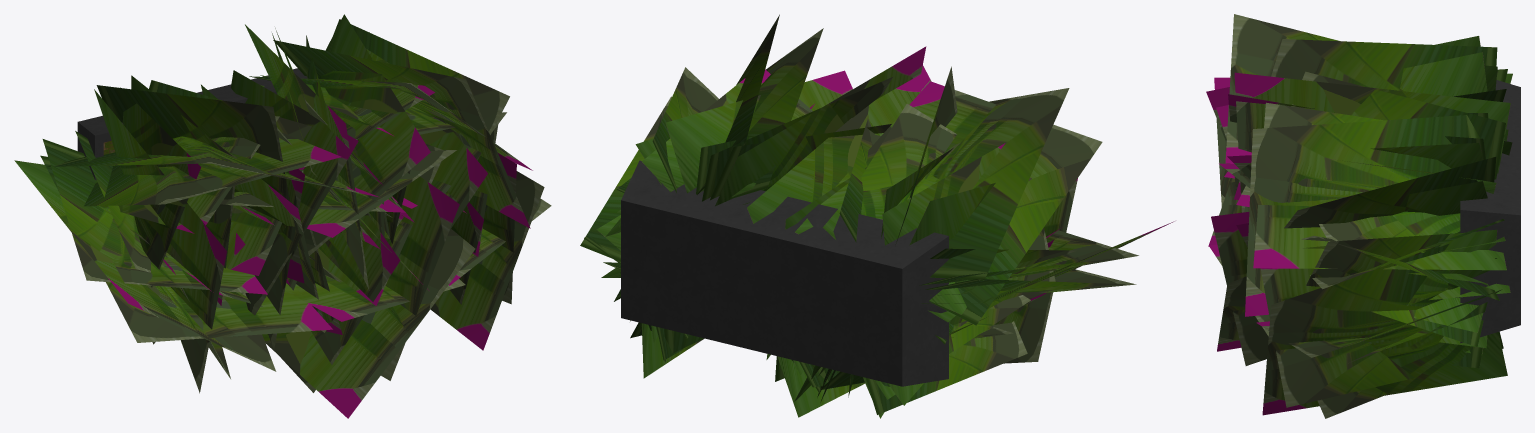
3 renders of one model, left to right at view 1: azimuth 30°, elevation 25°; view 2: azimuth 150°, elevation 25°; view 3: azimuth 270°, elevation 25°, orthographic. The views are drawn at different scales.
Visible parts, largest first — view 1: Pot_7_Low_PolyPlant_0; view 2: Pot_7_Low_PolyPlant_0; view 3: Pot_7_Low_PolyPlant_0.
Boxes of the visible parts, x1,y1,x2,y2 form: Pot_7_Low_PolyPlant_0: (14, 14, 551, 418); Pot_7_Low_PolyPlant_0: (580, 14, 1174, 418); Pot_7_Low_PolyPlant_0: (1206, 14, 1520, 418).
Size of the model in its own units: 2.5 by 1.51 by 1.45.
1 material, 1 textured.
